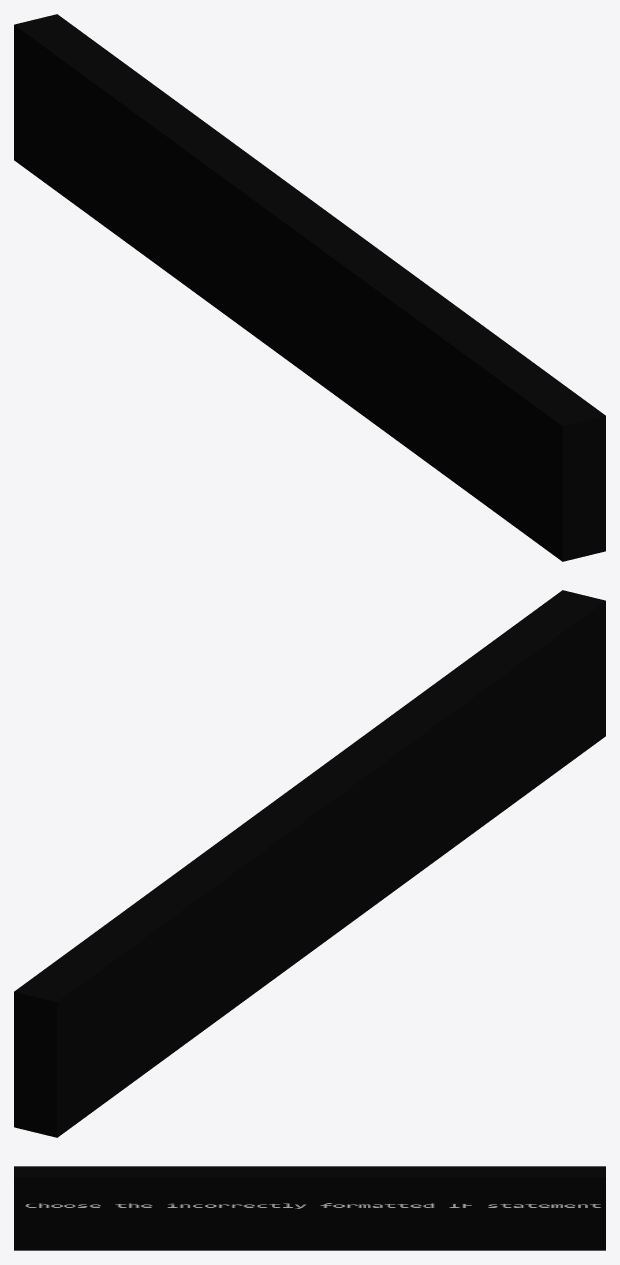
The model's file is tilePuzzleHeader.fbx.
3 views of the same model, one above another, from view 1: azimuth 30°, elevation 25°; view 2: azimuth 150°, elevation 25°; view 3: azimuth 270°, elevation 25° (orthographic). The views are drawn at different scales.
Visible parts, largest first — view 1: Cube; view 2: Cube; view 3: Cube.
Part boxes in pixels (<box>): Cube: <box>14,14,605,561</box>; Cube: <box>14,590,605,1137</box>; Cube: <box>14,1166,605,1250</box>.
Size of the model in its own units: 32.06 by 95.92 by 704.
